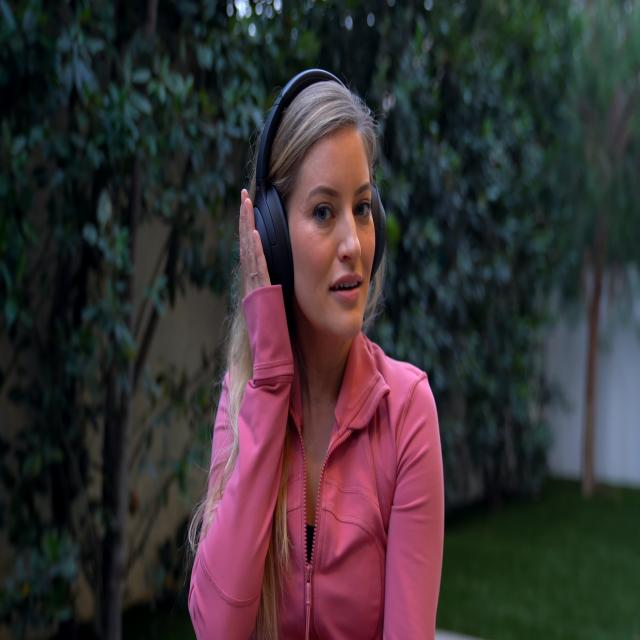Headphone: (250, 64, 388, 306)
